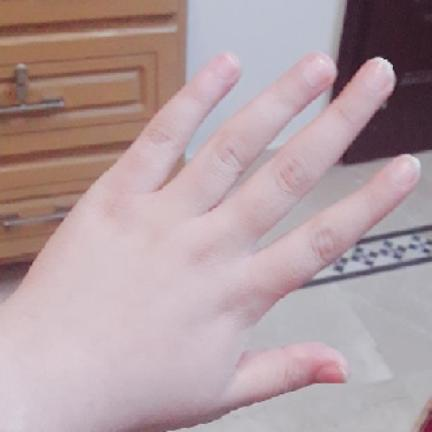Nail: (300, 54, 336, 89), (363, 57, 395, 90), (393, 153, 420, 182), (313, 362, 347, 383), (215, 56, 239, 78)
